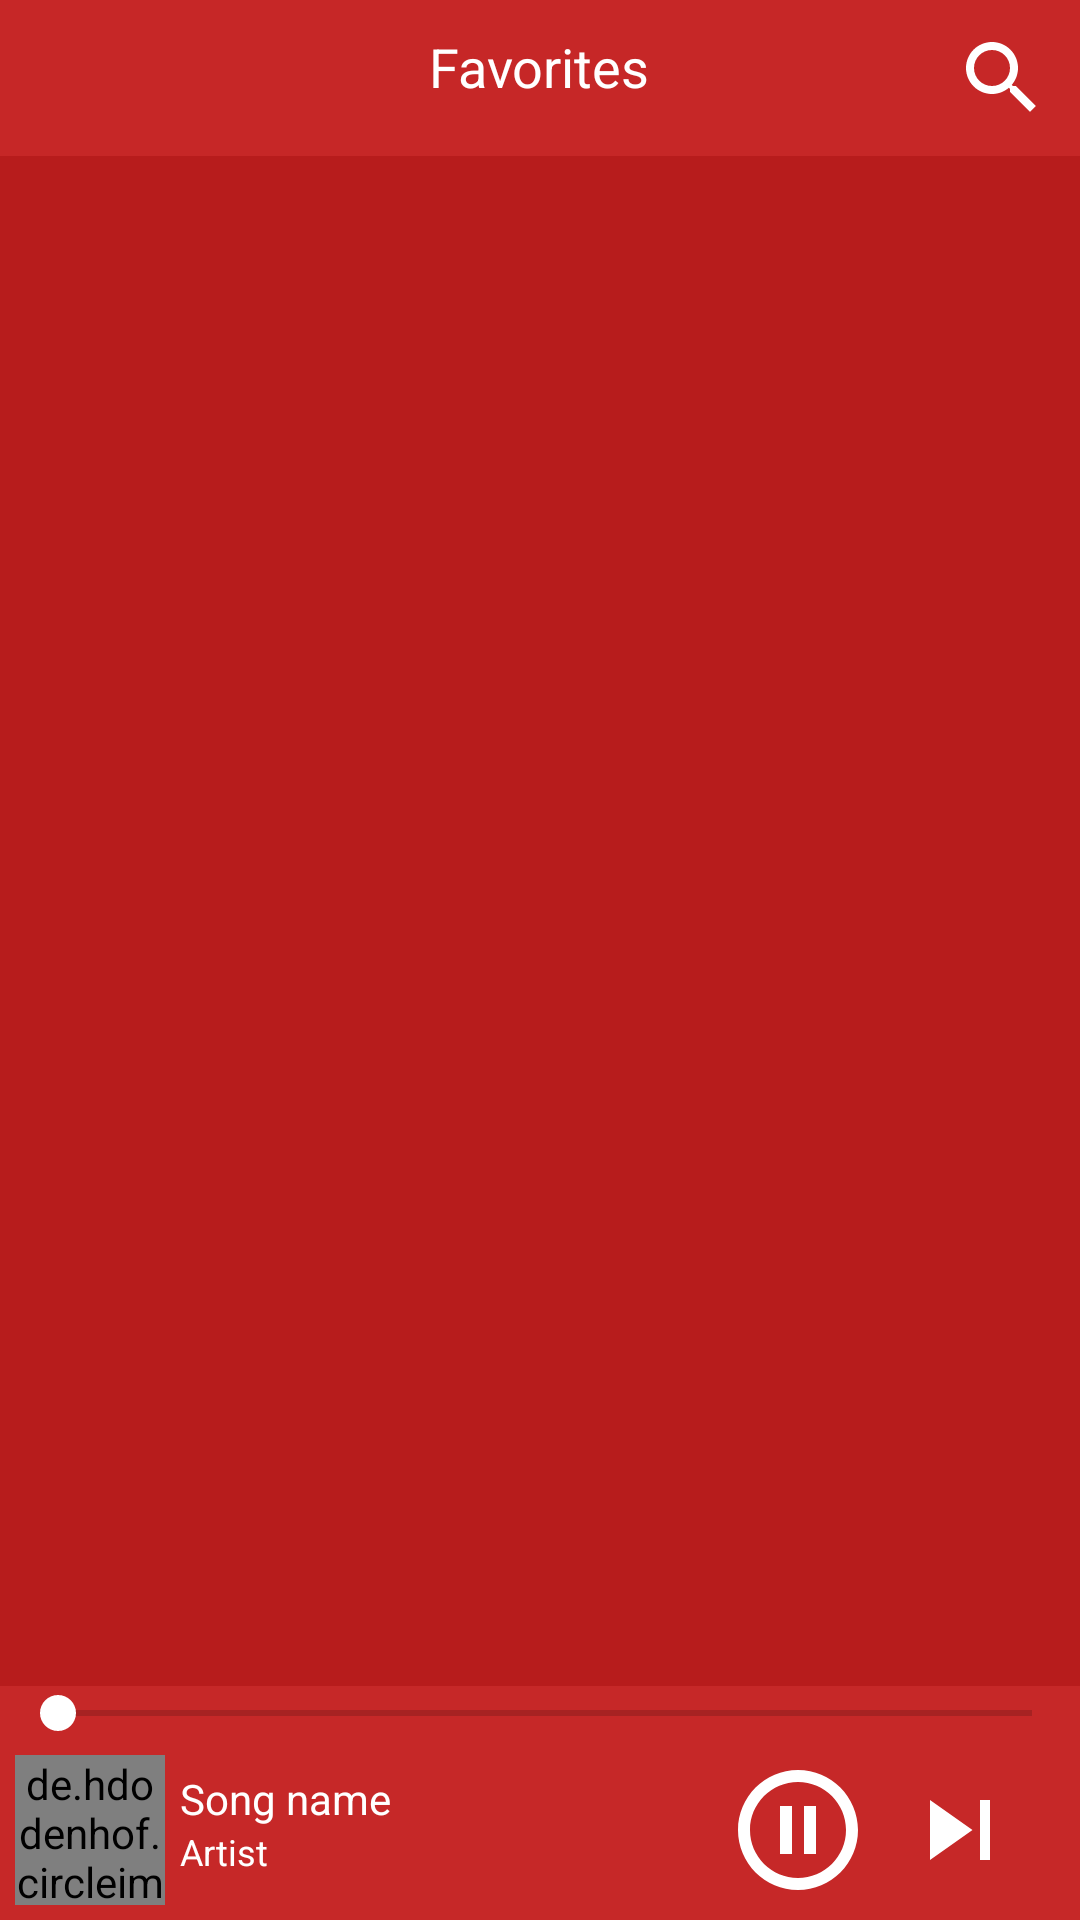

Icons on this 1080x1920 Android screen, each with its box as (x1, y1, x2, y2):
next: (930, 1800, 990, 1860)
pause circle: (738, 1770, 858, 1890)
search: (966, 42, 1036, 112)
